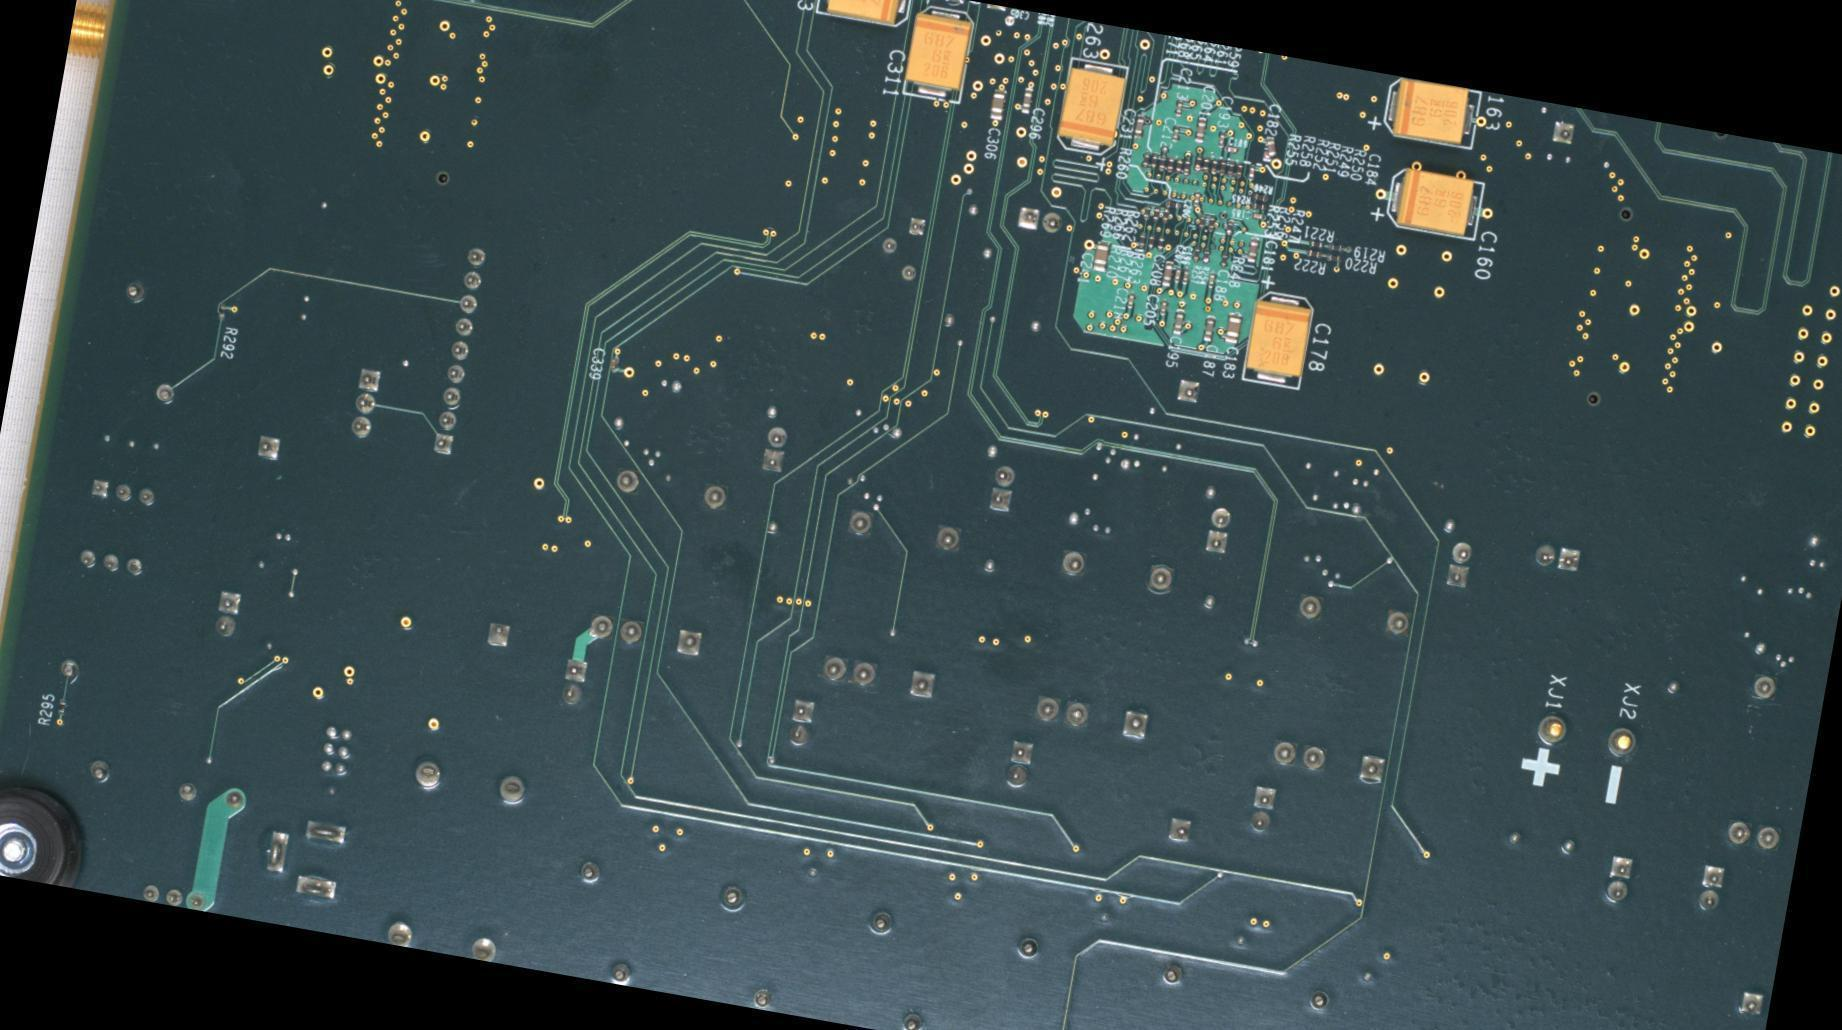Capacitor: (1223, 311, 1242, 343), (1092, 239, 1110, 272), (989, 88, 1007, 120), (1262, 135, 1278, 161), (1202, 314, 1216, 342), (1020, 87, 1033, 114), (1246, 235, 1259, 262), (1161, 260, 1174, 287), (1132, 112, 1145, 138), (1171, 308, 1184, 334), (1195, 115, 1207, 142), (608, 356, 620, 374), (1207, 269, 1216, 288), (1174, 99, 1183, 116), (1217, 130, 1226, 147), (1246, 163, 1255, 180), (1181, 267, 1190, 284), (1159, 298, 1168, 315), (1224, 144, 1240, 153), (1192, 190, 1201, 206), (1126, 291, 1135, 307), (1173, 266, 1181, 283), (1250, 212, 1265, 221), (1172, 125, 1180, 141)
Connector: (66, 0, 123, 69)
Electrolytic Capacitor: (1383, 165, 1485, 241), (1379, 75, 1482, 150), (1054, 55, 1128, 157), (901, 3, 975, 104), (1242, 289, 1315, 391), (815, 0, 913, 30)
Pins: (375, 753, 536, 964), (579, 461, 736, 667), (1027, 542, 1182, 748), (813, 503, 967, 706), (1264, 587, 1417, 791), (1716, 668, 1826, 865), (427, 239, 494, 460), (252, 807, 355, 908), (83, 753, 250, 815), (74, 475, 158, 581), (873, 209, 934, 287), (344, 364, 386, 444), (131, 877, 213, 912), (552, 653, 596, 712), (1528, 533, 1584, 577), (1243, 780, 1281, 842), (1441, 536, 1479, 597), (1691, 858, 1729, 918), (983, 459, 1019, 519), (1000, 736, 1037, 793), (1599, 849, 1636, 906), (207, 584, 245, 639), (782, 692, 817, 749), (1011, 202, 1068, 236), (757, 421, 791, 478), (1202, 502, 1236, 558), (1160, 811, 1195, 850), (1733, 984, 1770, 1020), (480, 615, 514, 652), (251, 431, 284, 463), (1547, 116, 1579, 149), (940, 0, 1009, 15), (1173, 376, 1203, 404), (55, 655, 83, 683), (150, 377, 179, 404)
Resistor: (1193, 154, 1203, 171), (1226, 159, 1235, 176), (1201, 156, 1210, 173), (1218, 159, 1227, 176), (1141, 150, 1150, 167), (1164, 200, 1181, 209), (1207, 215, 1216, 232), (1226, 218, 1235, 235), (1201, 246, 1210, 263), (217, 302, 226, 319), (57, 698, 66, 714), (1210, 158, 1219, 174), (1234, 162, 1243, 178), (1149, 152, 1158, 168), (1182, 158, 1191, 174), (1157, 155, 1166, 171), (1253, 193, 1269, 202), (1197, 212, 1206, 228), (1327, 242, 1343, 251), (1306, 249, 1322, 258), (1137, 231, 1146, 247), (1156, 236, 1165, 252), (1219, 251, 1228, 267), (1142, 203, 1150, 220), (1166, 155, 1174, 171), (1250, 202, 1266, 210), (1152, 205, 1160, 221), (1192, 246, 1200, 262), (1174, 158, 1182, 173), (1309, 240, 1324, 248), (1326, 253, 1341, 261), (1146, 233, 1154, 248), (1162, 208, 1169, 223)
